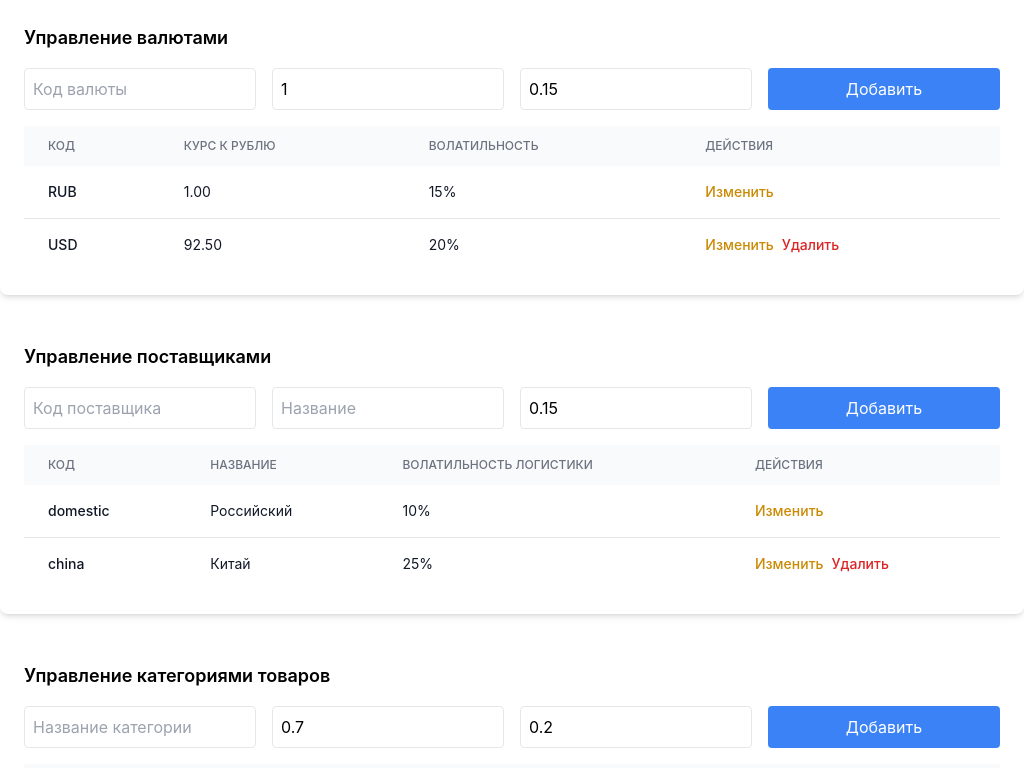
Test case: PortfolioSettingsTab › Currency Management › allows editing currency
Step 1. Click the button "Изменить" in the row of "RUB" → (740, 192), box [705,182,774,202]
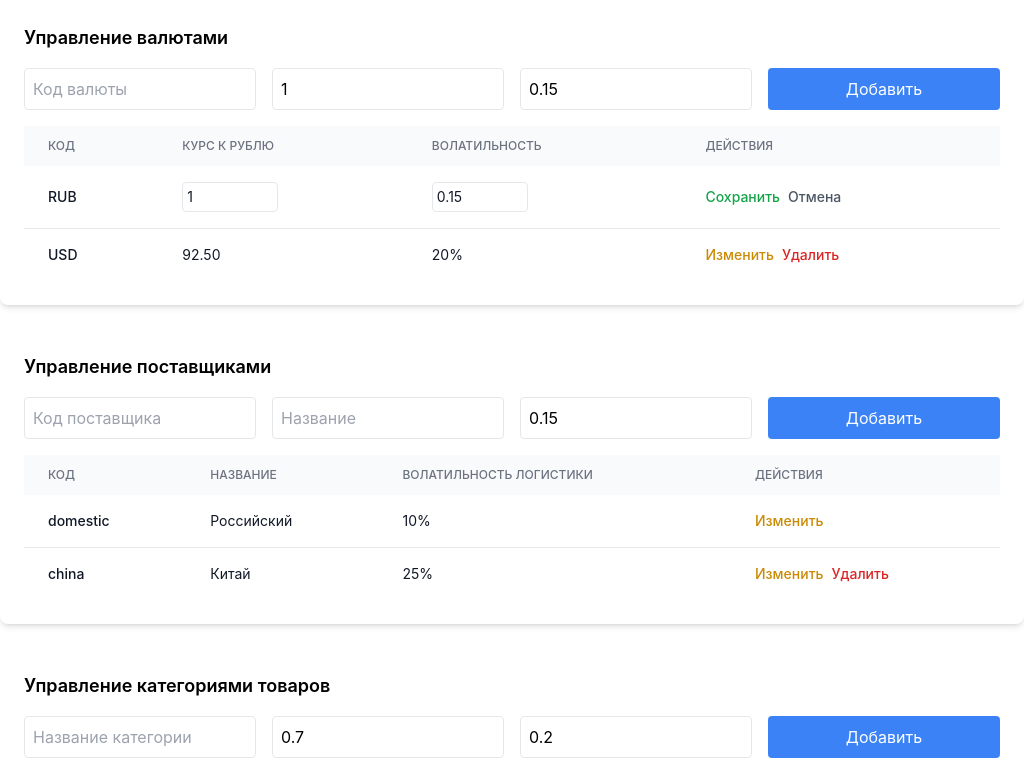
expect the button "Сохранить" is shown: met, box [705,187,780,207]
expect the button "Отмена" is shown: met, box [788,187,841,207]
